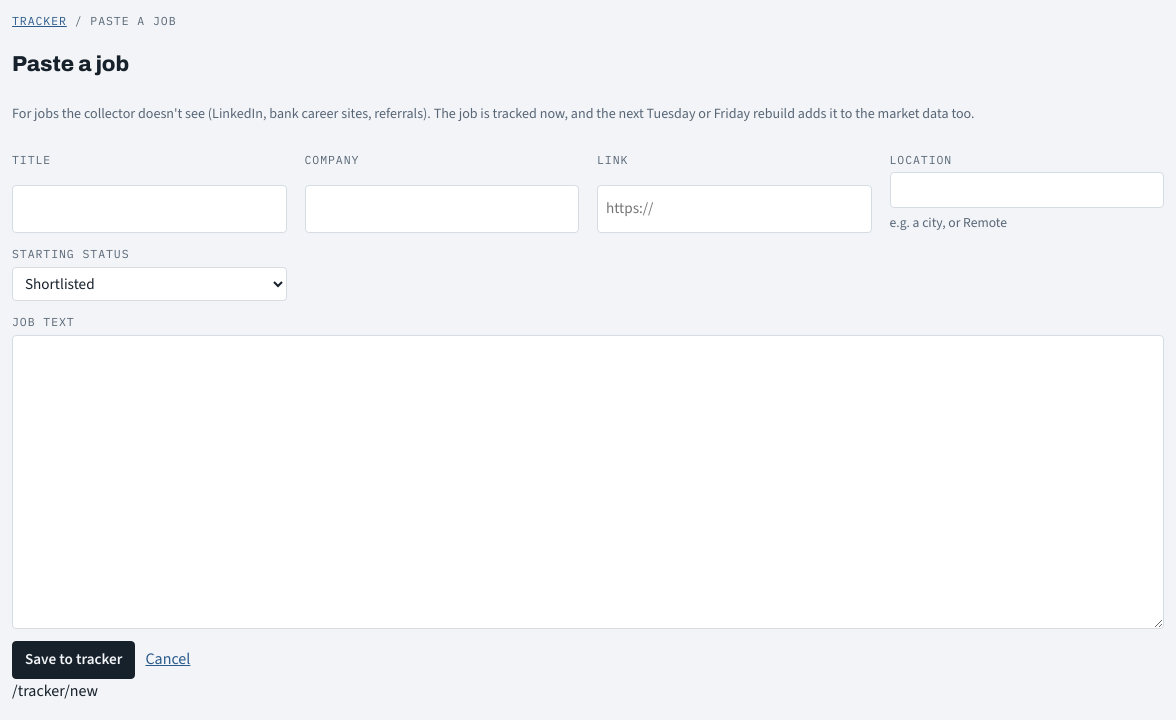
Test: Paste a job › saves the job and opens the new entry
Type "Senior .NET Developer" into the field labelled "Title".
click(149, 209); type("Senior .NET Developer")  # box left=12, top=185, right=286, bottom=233
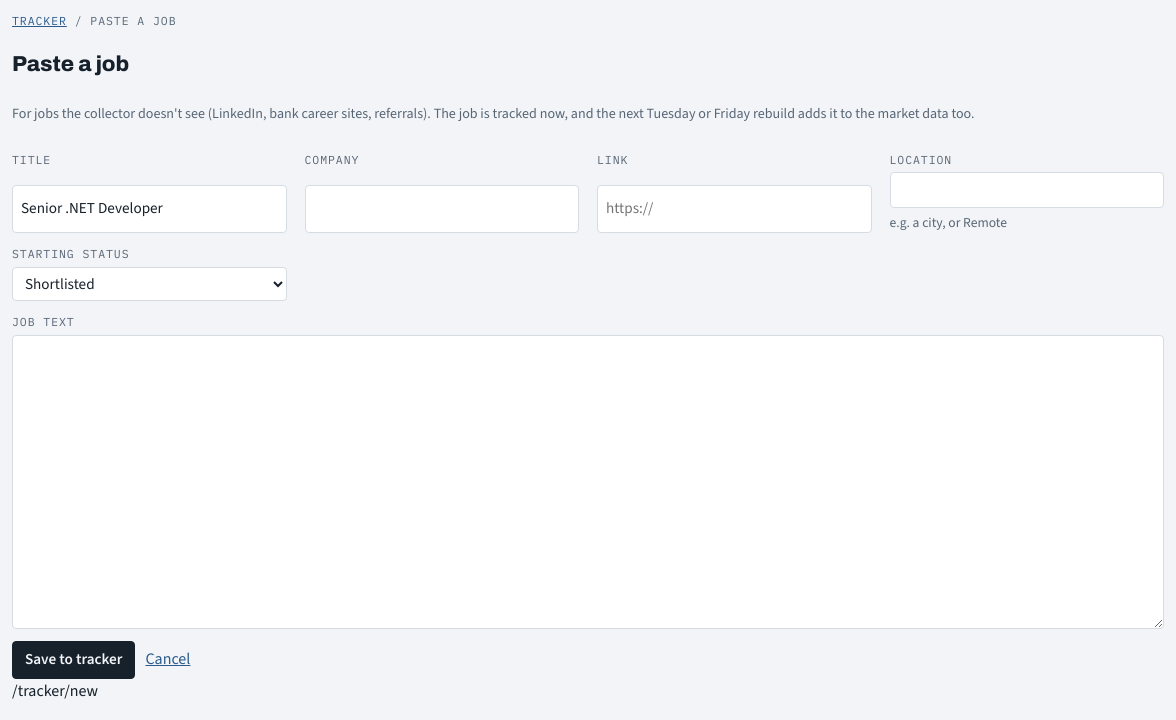
Type "RBC" into the field labelled "Company".
click(442, 209); type("RBC")  # box left=304, top=185, right=579, bottom=233
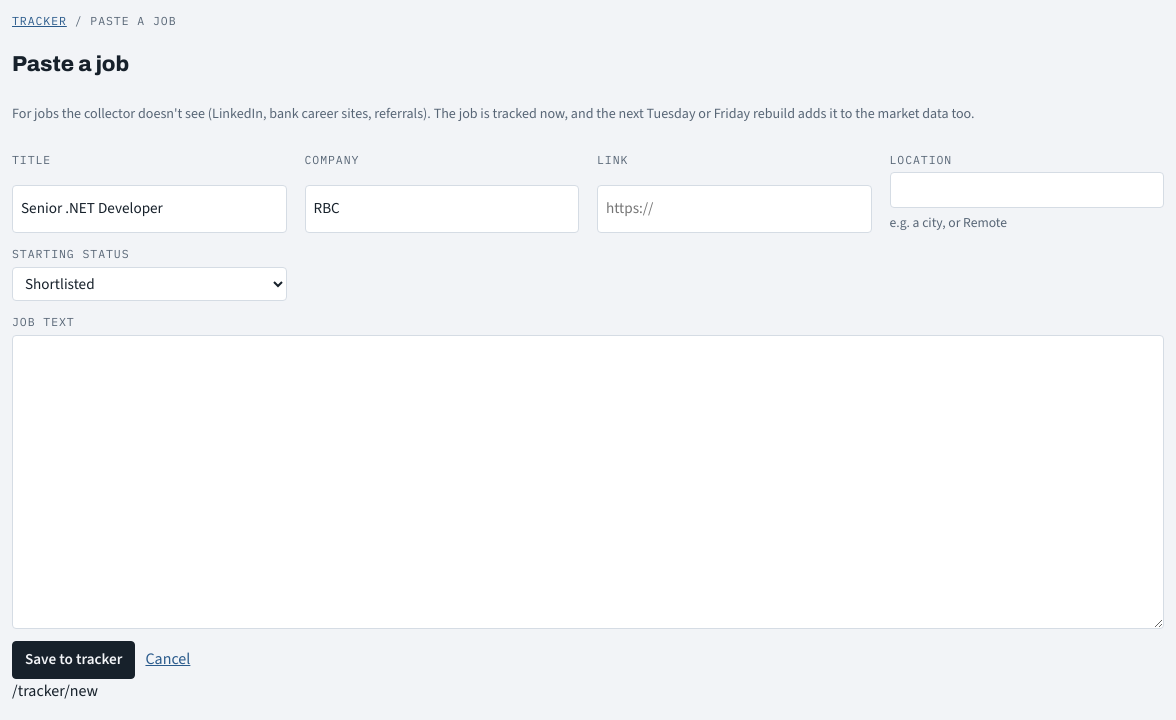
Type "C# and Azure." into the text box labelled "Job text".
click(588, 482); type("C# and Azure.")  # box left=12, top=335, right=1164, bottom=629
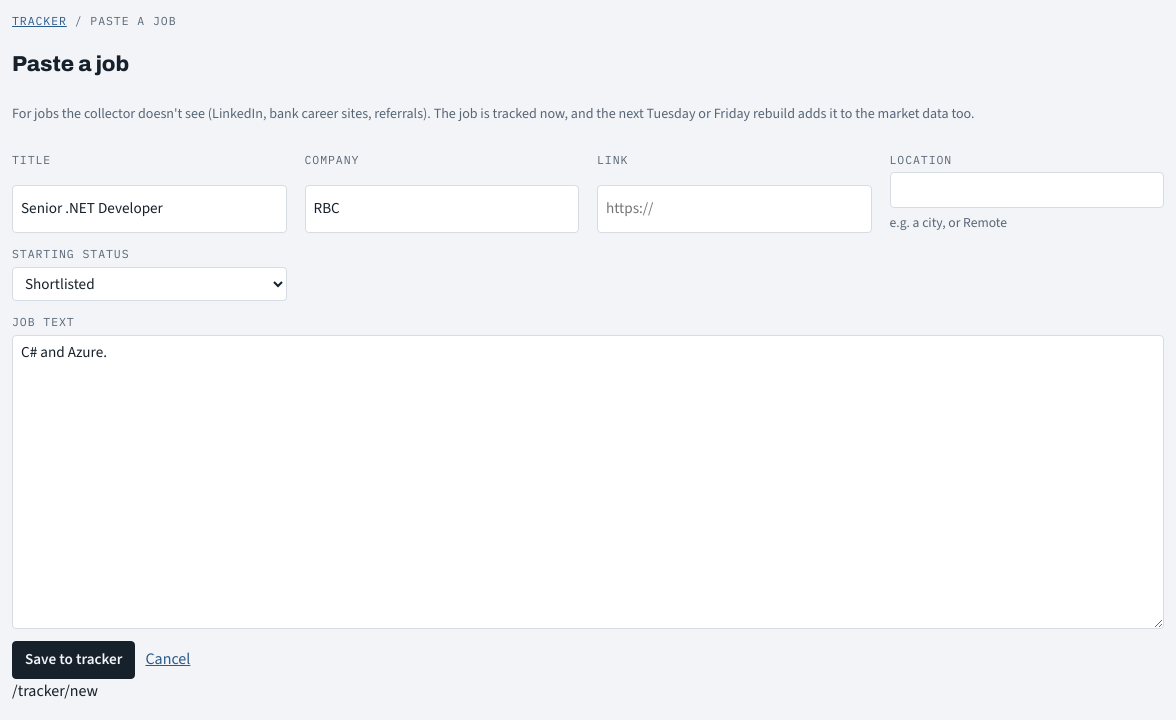
Select "Applied" in the dropdown labelled "Starting status" at (149, 284), box left=12, top=267, right=286, bottom=301
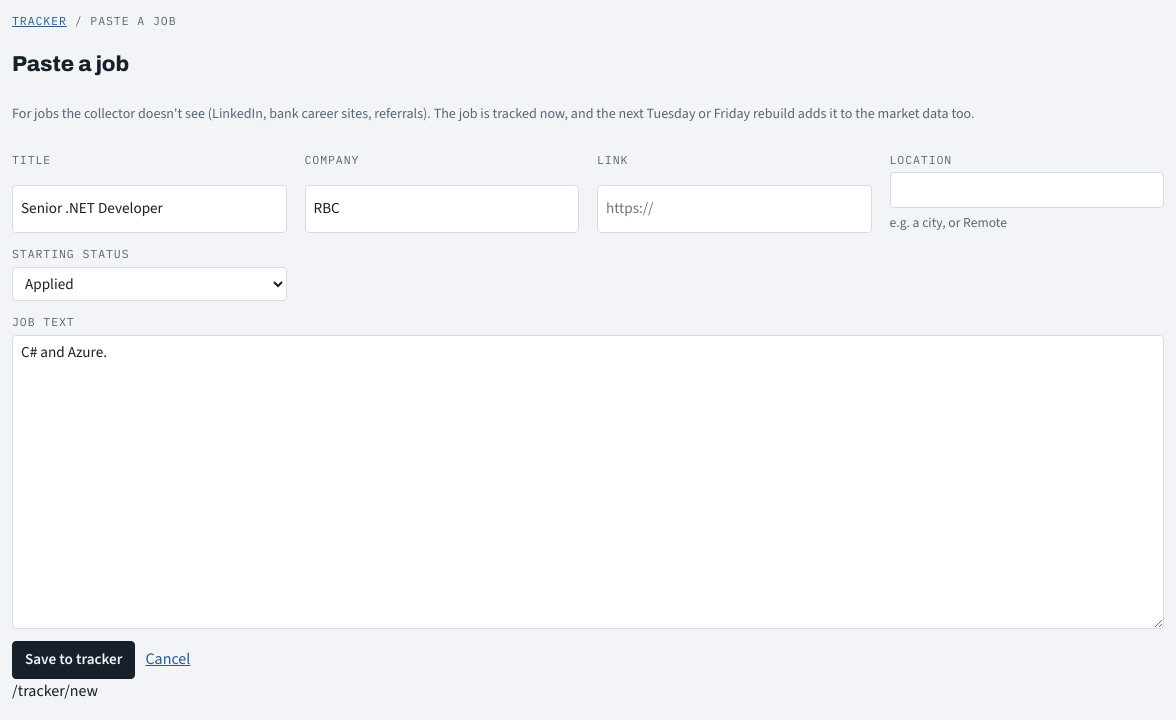
Click the button "Save to tracker".
click(74, 660)  # box left=12, top=641, right=136, bottom=679
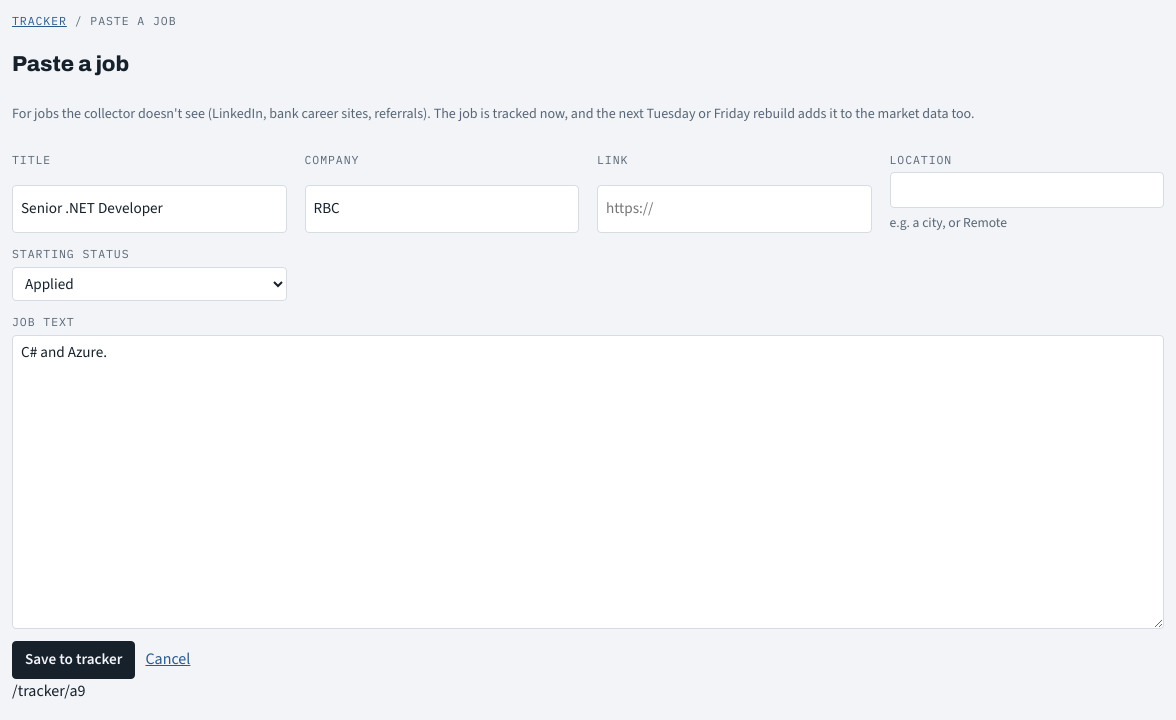
Result: the text with test id "location" reads "/tracker/a9" at left=12, top=680, right=86, bottom=701
